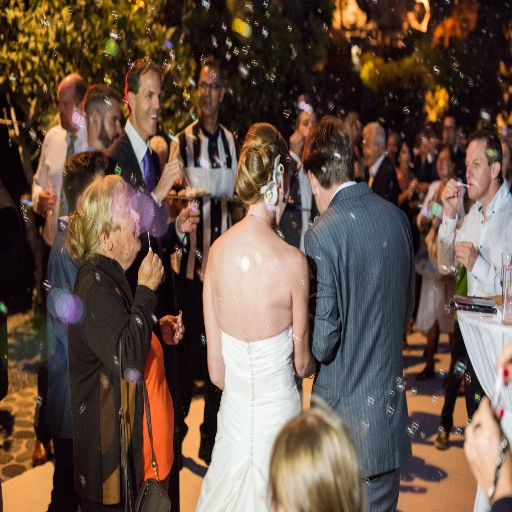hand: (474, 405, 502, 501), (135, 247, 165, 294), (157, 156, 183, 198), (157, 312, 186, 347), (438, 176, 462, 217), (176, 199, 200, 237), (454, 238, 479, 270), (495, 338, 511, 385), (35, 186, 56, 217), (288, 128, 304, 155), (407, 176, 418, 193)
